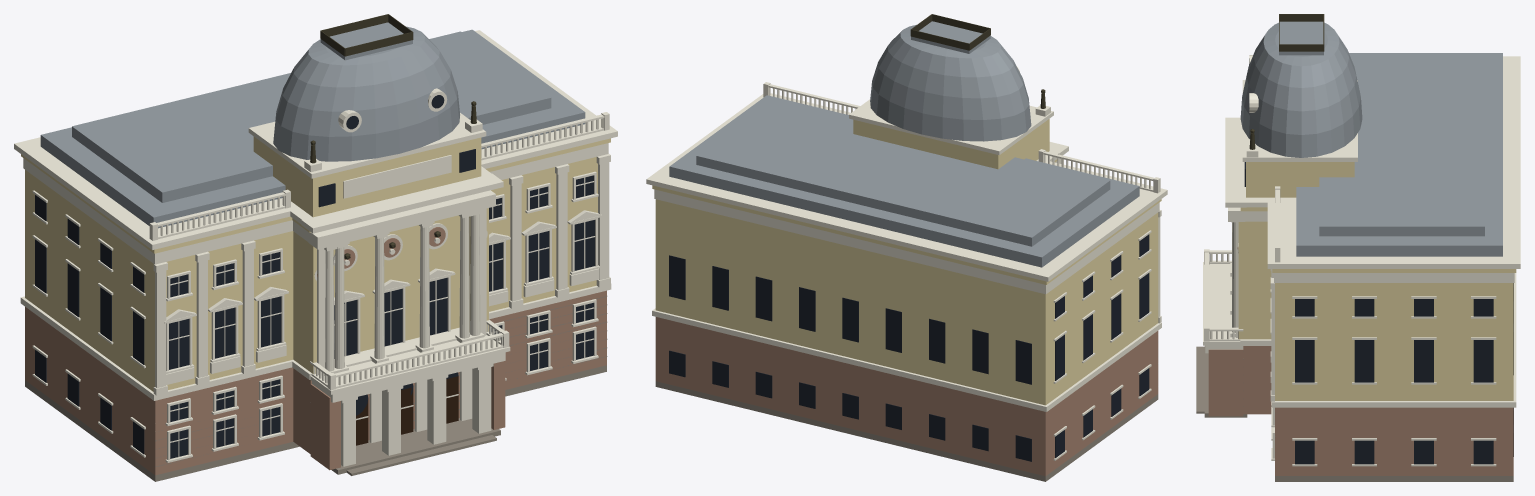
File: snd.glb
3 renders of one model, left to right at view 1: azimuth 30°, elevation 25°; view 2: azimuth 150°, elevation 25°; view 3: azimuth 270°, elevation 25°, orthographic. The views are drawn at different scales.
Parts seen in each view (by area): view 1: snd; view 2: snd; view 3: snd.
Boxes of the visible parts, x1,y1,x2,y2 form: snd: (14, 14, 617, 481); snd: (646, 14, 1167, 481); snd: (1196, 14, 1520, 481).
Bounding box in the file's own units: 37.1 × 29.31 × 24.5.
